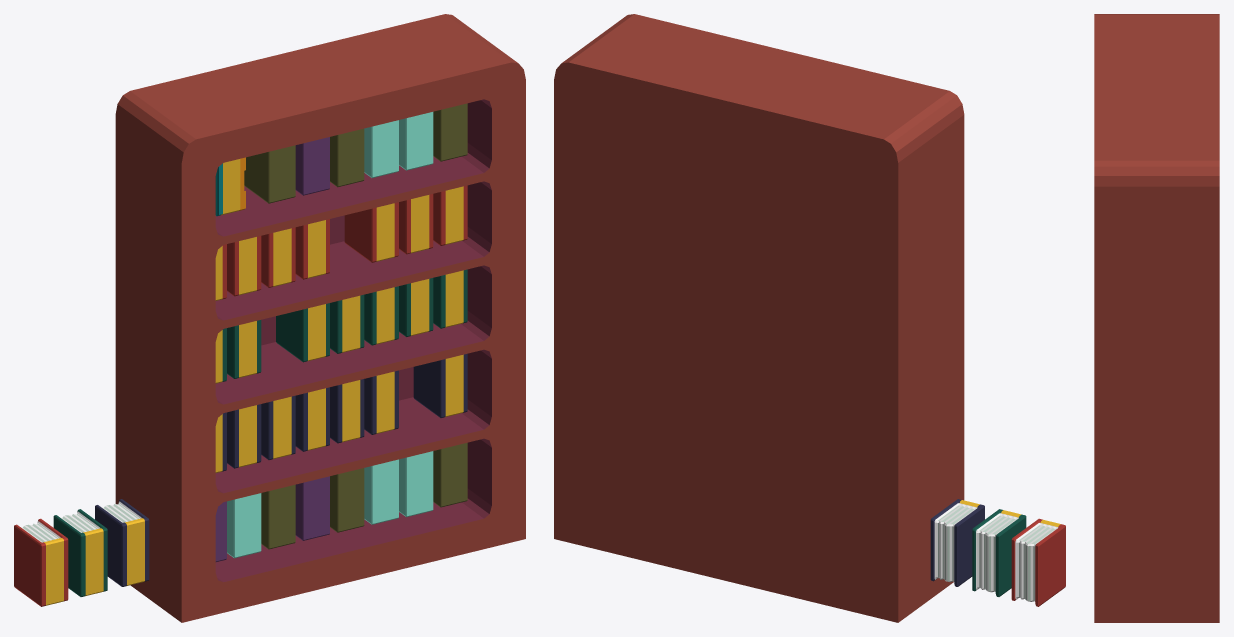
Rendered from G477Proj2Jay'sBookshelf.fbx.
The picture shows the model from 3 angles, left to right: view 1: azimuth 30°, elevation 25°; view 2: azimuth 150°, elevation 25°; view 3: azimuth 270°, elevation 25°; orthographic projection. The views are drawn at different scales.
Parts seen in each view (by area): view 1: JayBookShelf, JayBook1.001, JayBook3.001, JayBook2.001, JayBookOpenBase; view 2: JayBookShelf, JayBook1.001, JayBook3.001, JayBook2.001; view 3: JayBookShelf.
Part boxes in pixels (x1,y1,x2,y2): JayBookShelf: [115, 14, 525, 622]; JayBook1.001: [14, 518, 68, 606]; JayBook3.001: [95, 499, 149, 586]; JayBook2.001: [53, 509, 107, 596]; JayBookOpenBase: [215, 159, 240, 216]; JayBookShelf: [554, 14, 964, 622]; JayBook1.001: [1011, 518, 1065, 606]; JayBook3.001: [930, 499, 984, 586]; JayBook2.001: [972, 509, 1026, 596]; JayBookShelf: [1094, 14, 1219, 622].
Bounding box in the file's own units: 203 × 200 × 50.
